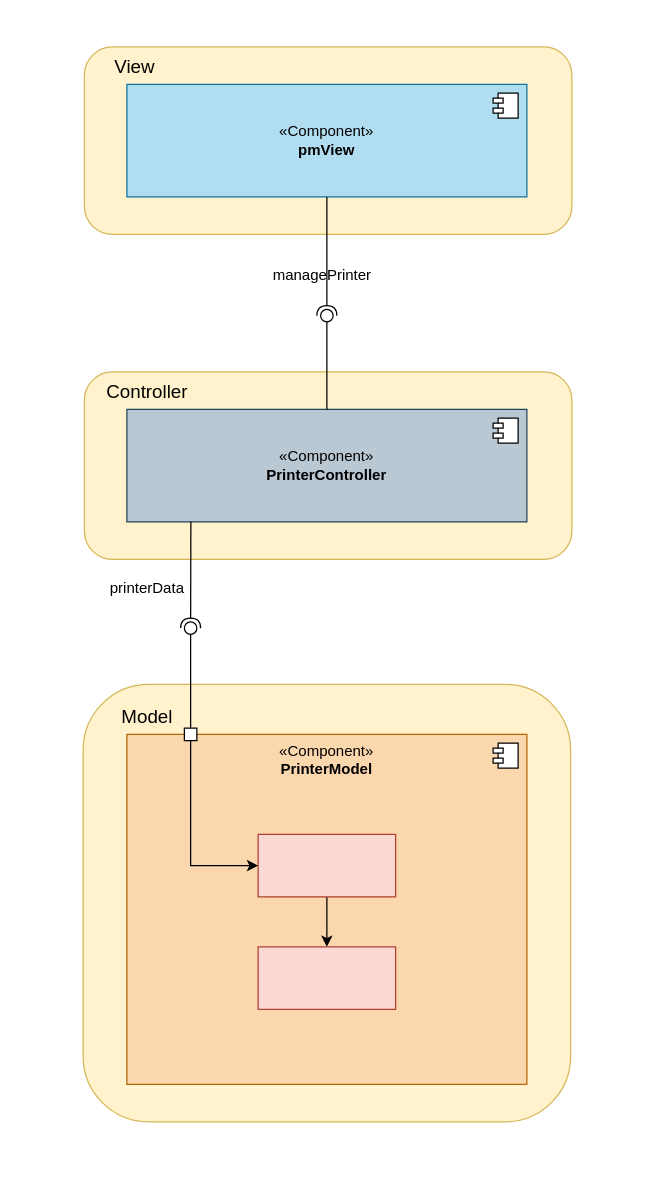
The diagram is 656 pixels wide and 1181 high, and some of its shapes have lost their labels. Here are the shapes that lost their labels. From the top down, the centre of each, then its label:
At [326,865]: "«object» PrinterDAO".
At [326,977]: "«object» PrinterDTO".
